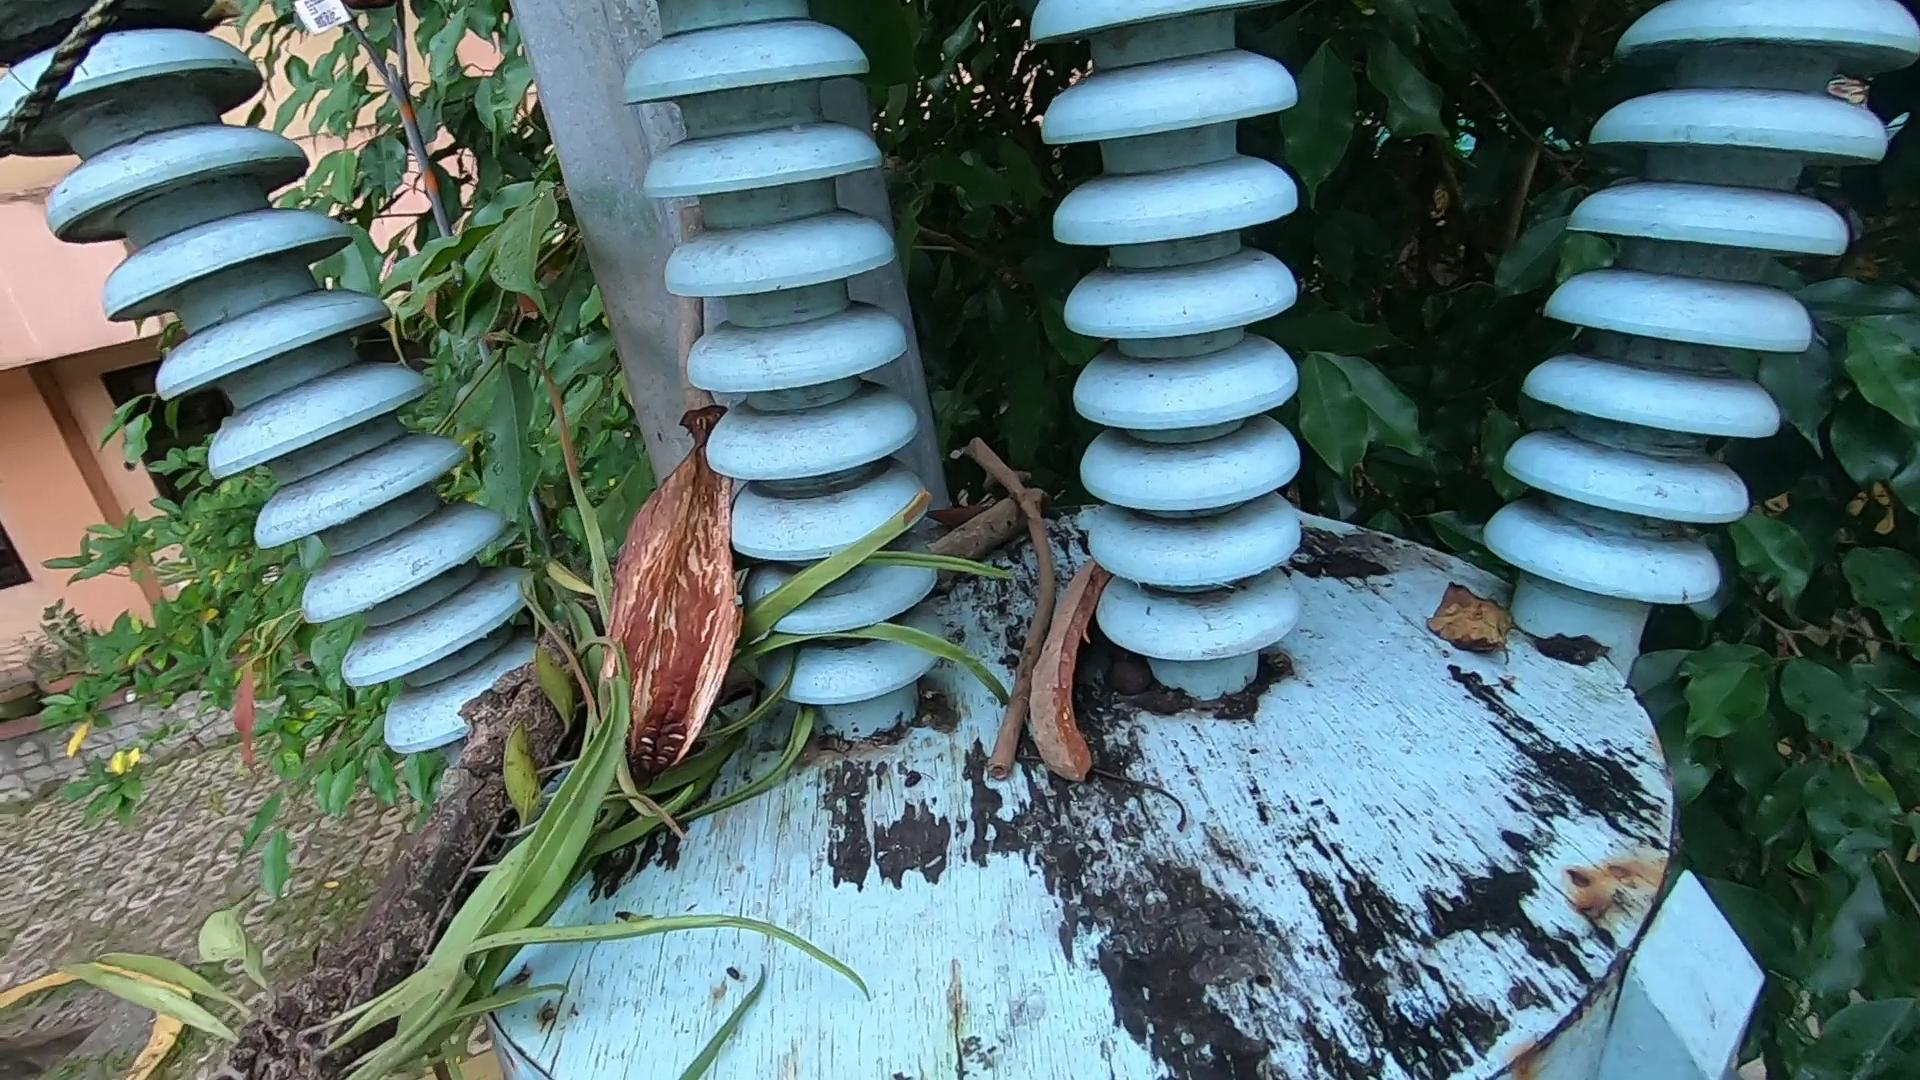branch with leaves: (191, 326, 1026, 1080)
leaf: (1420, 580, 1531, 665)
mahogany fruit: (611, 396, 781, 753), (1058, 578, 1191, 847)
tree branch: (960, 419, 1058, 799), (914, 465, 1056, 589)
